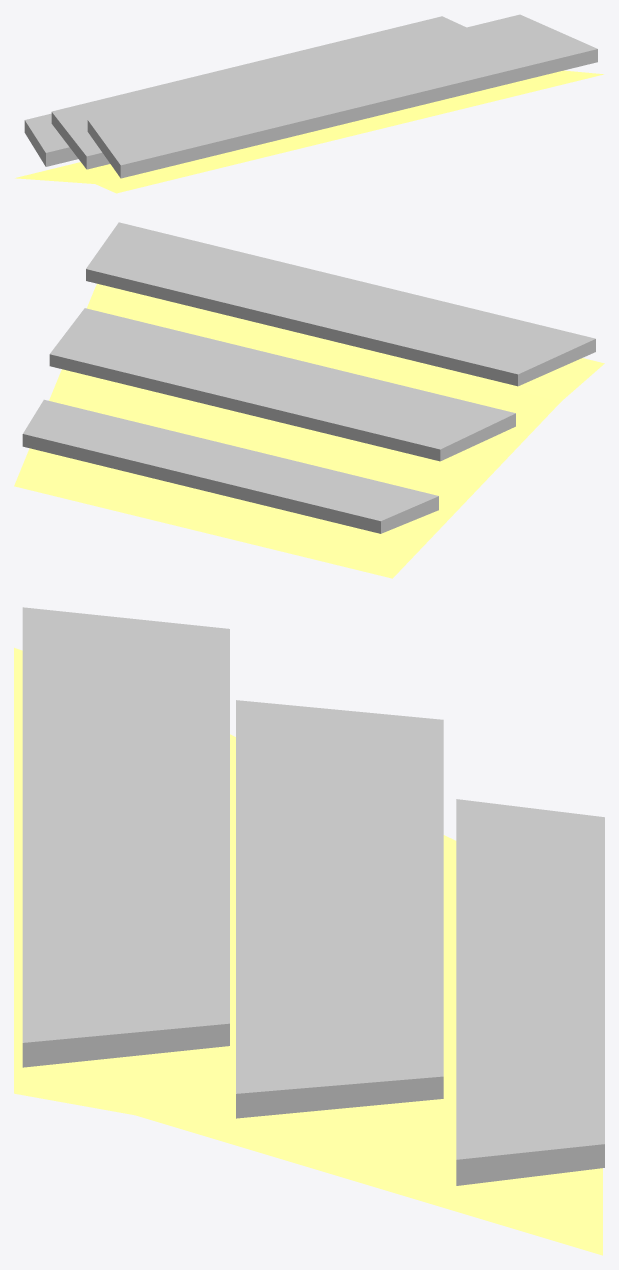
Rendered from CorkscrewRadiator.glb.
3 renders of one model, top to bottom at view 1: azimuth 30°, elevation 25°; view 2: azimuth 150°, elevation 25°; view 3: azimuth 270°, elevation 25°, orthographic. The views are drawn at different scales.
Visible parts, largest first — view 1: radiator thingies.006, radiator thingies.005, Radiator.001, radiator thingies.007; view 2: Radiator.001, radiator thingies.006, radiator thingies.005, radiator thingies.007; view 3: radiator thingies.006, radiator thingies.005, radiator thingies.007, Radiator.001.
Part boxes in pixels (x1,y1,x2,y2): radiator thingies.006: [87, 14, 597, 178]; radiator thingies.005: [51, 16, 466, 169]; Radiator.001: [15, 70, 603, 193]; radiator thingies.007: [24, 113, 78, 166]; Radiator.001: [14, 283, 604, 578]; radiator thingies.006: [86, 222, 595, 386]; radiator thingies.005: [49, 308, 515, 461]; radiator thingies.007: [22, 399, 438, 533]; radiator thingies.006: [22, 607, 229, 1067]; radiator thingies.005: [236, 700, 443, 1118]; radiator thingies.007: [456, 799, 604, 1185]; Radiator.001: [14, 647, 602, 1255].
Bounding box in the file's own units: 2.7 × 0.7288 × 1.51.
